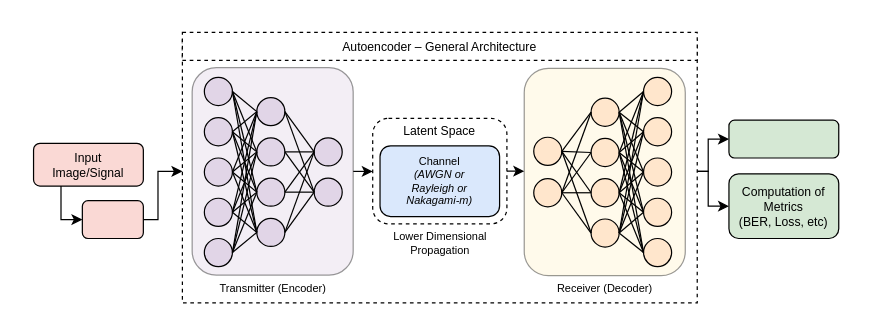
Some shapes in this 875 by 334 pixel diagram are drawn without their labels. Here are the shapes that lost their labels. From the top down, the box of each, then its label:
(728, 119, 839, 158): Decoded Image/Signal
(81, 199, 143, 239): Patches
